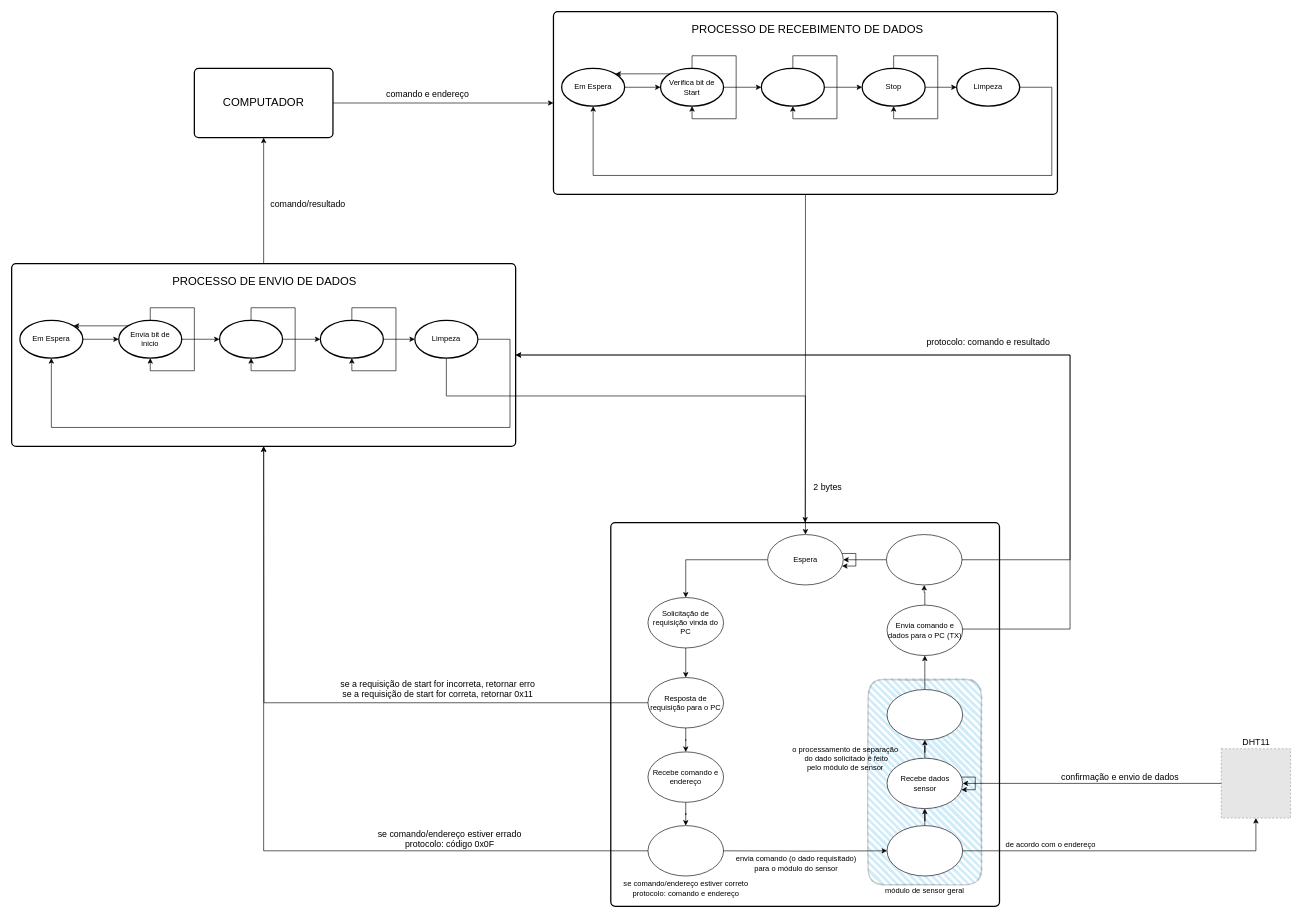
Some shapes in this 1302 by 917 pixel diagram are drawn without their labels. Grey dashed boxes stand in for pictures. Here are the shapes that lost their labels. From the top down, the centre of each, then its label:
At point 792,86: "Espera de bits".
At point 251,338: "Envia bits".
At point 351,338: "Envia bit final".
At point 924,559: "Envia comando de finalização de comunicação".
At point 924,714: "Separa dado solicitado".
At point 685,850: "Verifica/valida e seleciona comando e endereço".
At point 924,850: "Envia bit de comunicação para o anexo do sensor".
